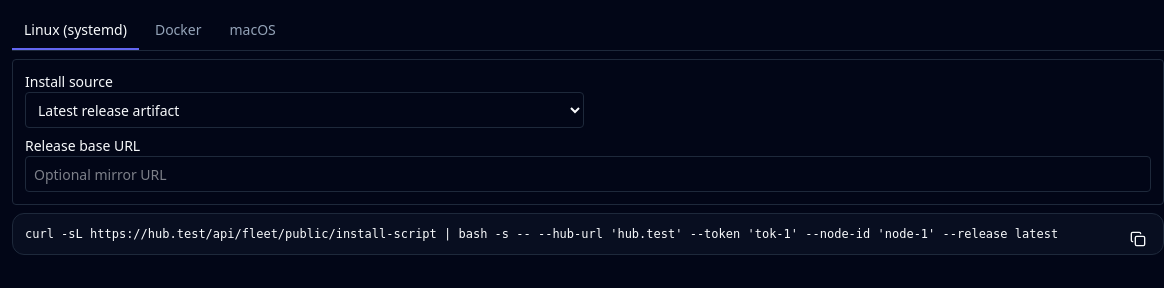
InstallerSnippet › switches to macOS tab and shows --platform macos flag
Click the button "macOS" at (253, 31), box [218,12,288,50]
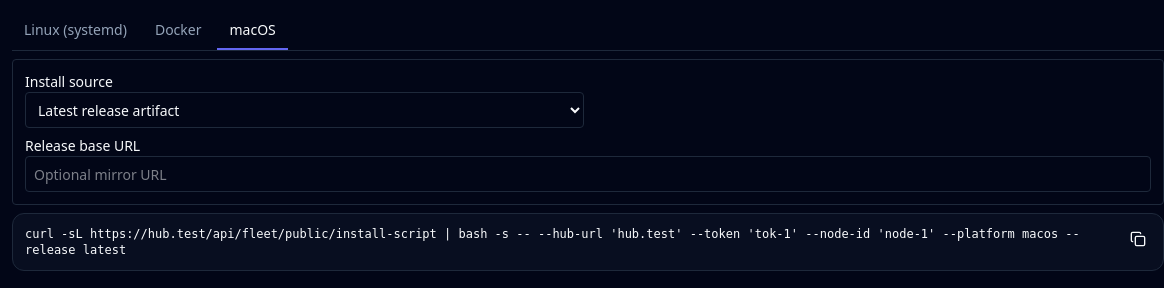
Expected: the text "--platform macos" is shown, [25,227,1080,257]
